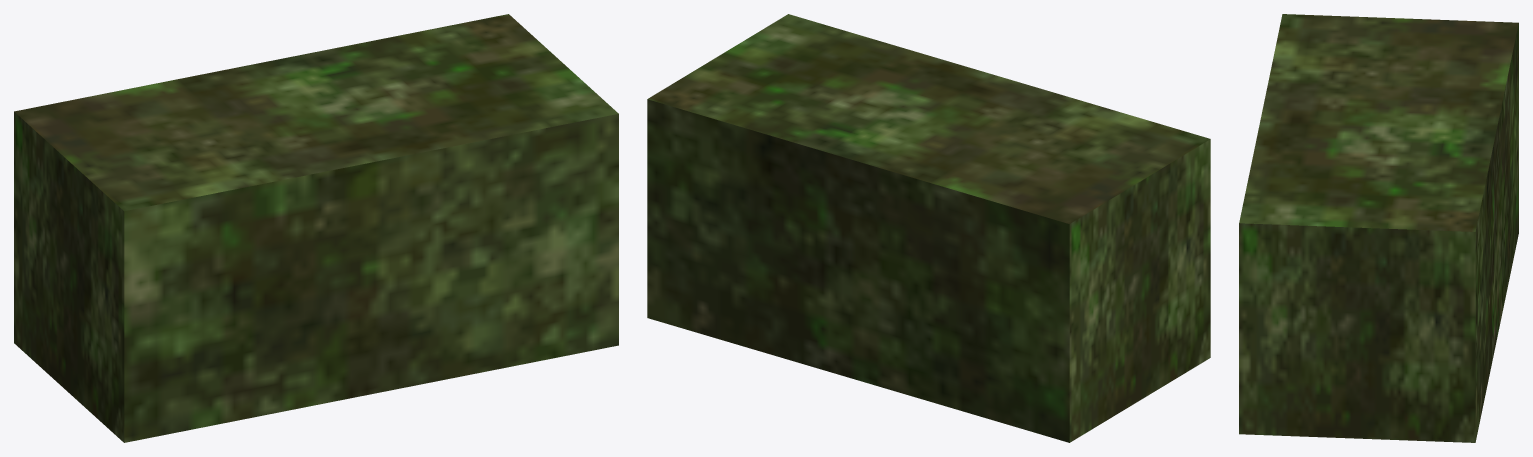
File: OVERHILL_A_01_SMALL_BLOCK_04.fbx
3 renders of one model, left to right at view 1: azimuth 30°, elevation 25°; view 2: azimuth 150°, elevation 25°; view 3: azimuth 270°, elevation 25°, orthographic. The views are drawn at different scales.
Parts seen in each view (by area): view 1: OVERHILL_A_01_SMALL_BLOCK_04; view 2: OVERHILL_A_01_SMALL_BLOCK_04; view 3: OVERHILL_A_01_SMALL_BLOCK_04.
Part boxes in pixels (<box>): OVERHILL_A_01_SMALL_BLOCK_04: <box>14,14,618,442</box>; OVERHILL_A_01_SMALL_BLOCK_04: <box>647,14,1210,442</box>; OVERHILL_A_01_SMALL_BLOCK_04: <box>1239,14,1518,442</box>.
Bounding box in the file's own units: 17202 × 7762 × 9327.
Materials: 1 (1 with a texture image).
